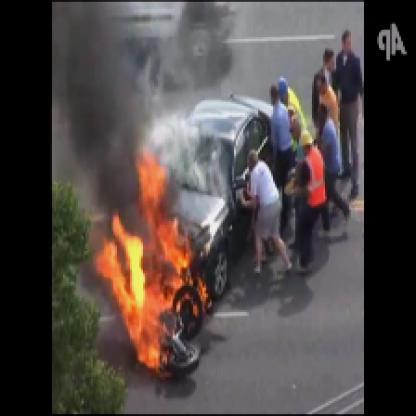Fire: (102, 162, 195, 382)
Smoke: (56, 3, 208, 198)
